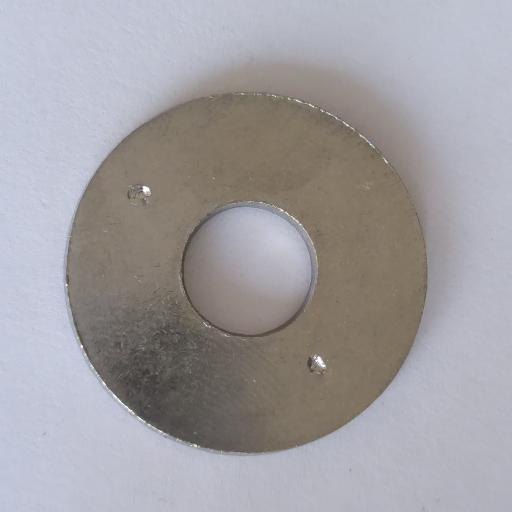circular_cavity: (124, 183, 153, 210), (307, 355, 328, 375)
